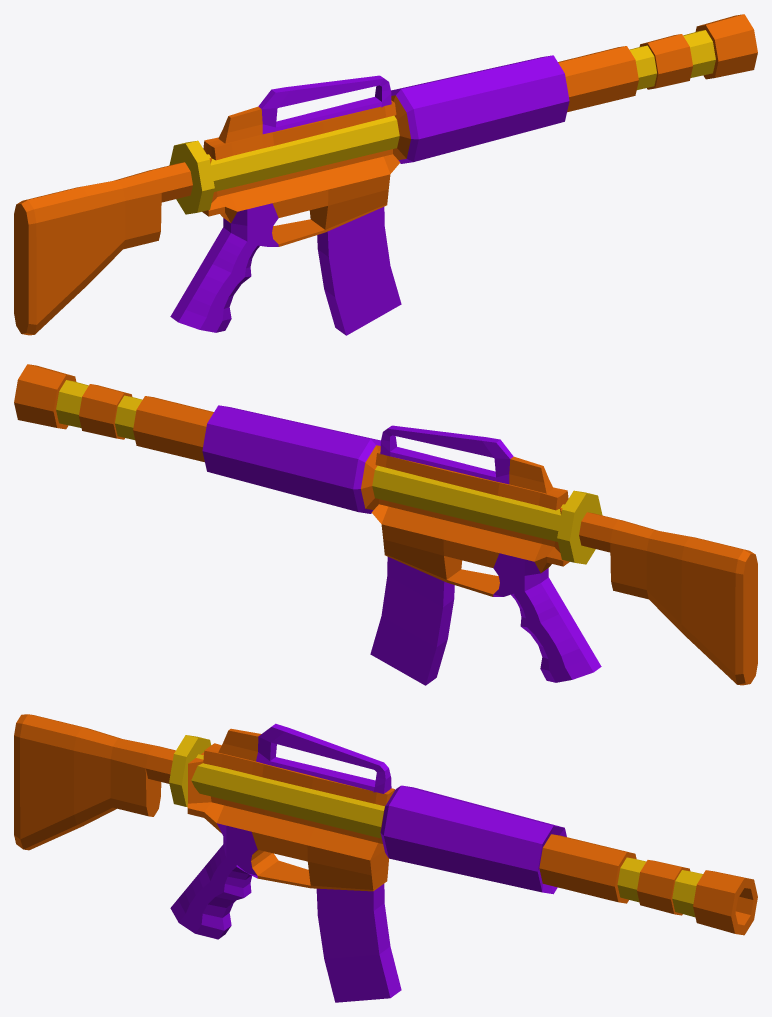
The model's file is gun (1).fbx.
3 views of the same model, one above another, from view 1: azimuth 30°, elevation 25°; view 2: azimuth 150°, elevation 25°; view 3: azimuth 330°, elevation 25° (orthographic).
Visible parts, largest first — view 1: Cylinder; view 2: Cylinder; view 3: Cylinder.
Boxes of the visible parts, x1,y1,x2,y2 form: Cylinder: (14,14,757,335); Cylinder: (14,364,757,685); Cylinder: (14,714,757,1002).
Bounding box in the file's own units: 462 × 157 × 38.8.
